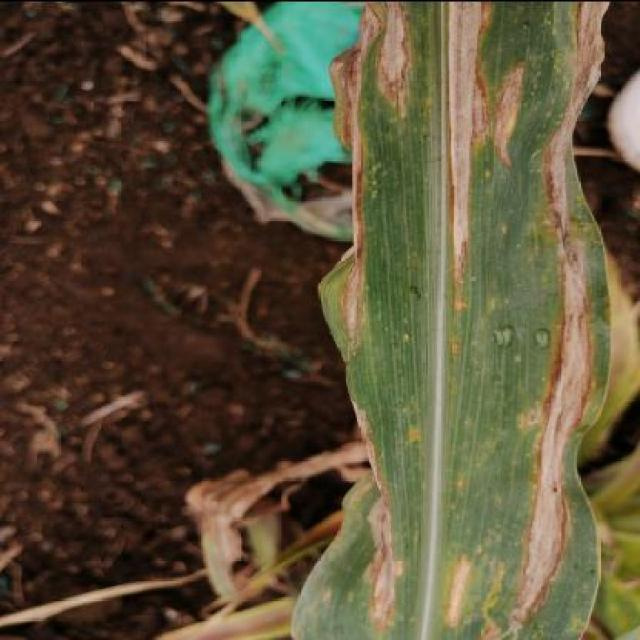Corn_Leaf_Blight: (286, 0, 617, 640)
